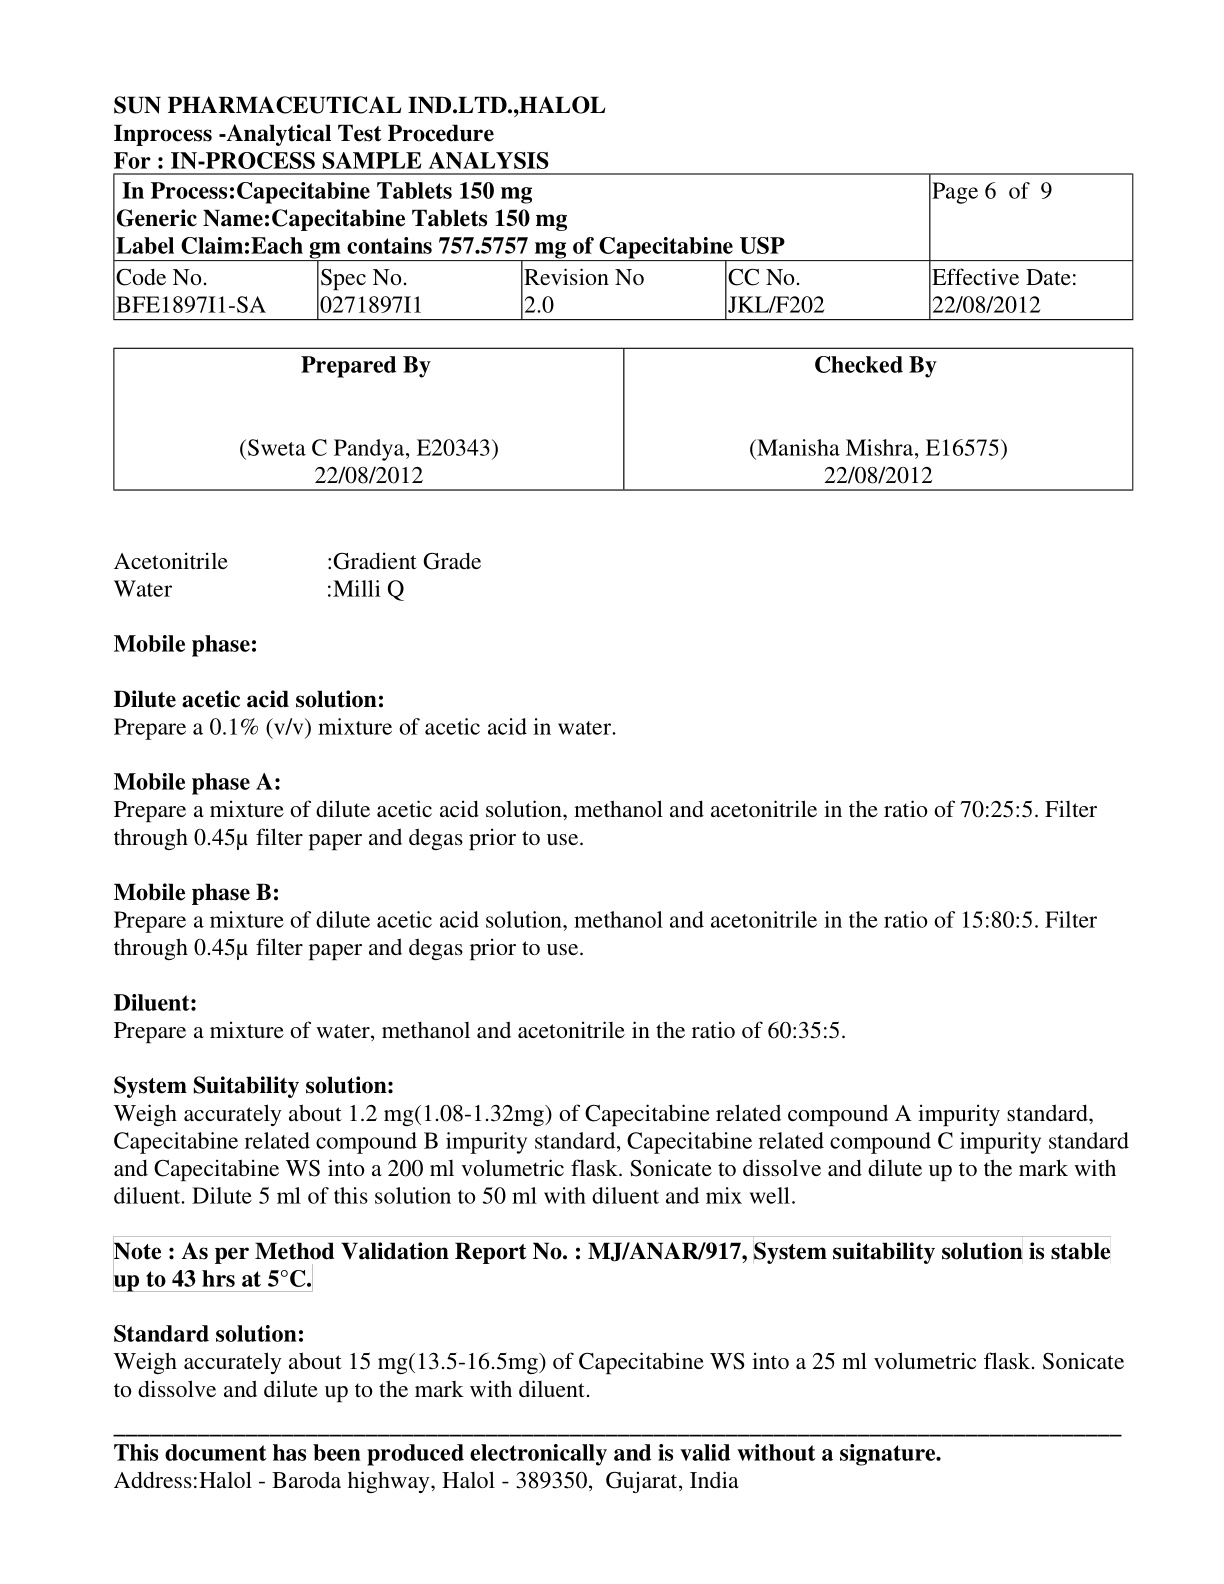full_lined: (112, 347, 1133, 491)
merged_cells: (112, 172, 1133, 321)
nolines: (111, 548, 483, 602)
